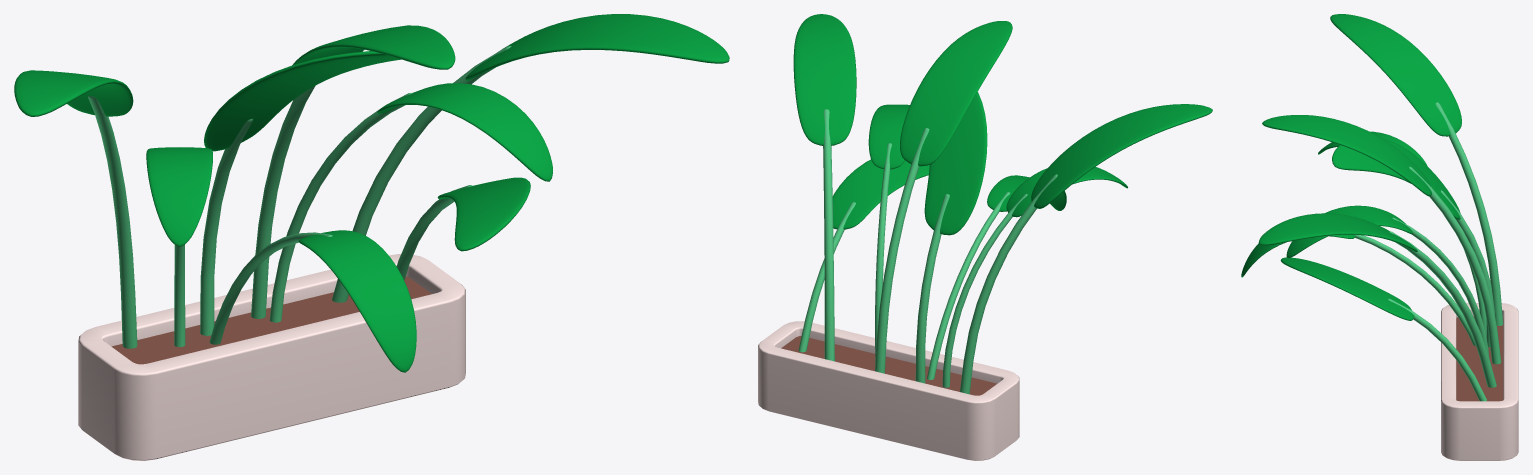
File: City_15_Plant_1.glb
3 views of the same model, side by side, from view 1: azimuth 30°, elevation 25°; view 2: azimuth 150°, elevation 25°; view 3: azimuth 270°, elevation 25° (orthographic). The views are drawn at different scales.
Parts seen in each view (by area): view 1: City_15_Plant_1; view 2: City_15_Plant_1; view 3: City_15_Plant_1.
Boxes of the visible parts, left/top/right/bottom form: City_15_Plant_1: left=14, top=14, right=729, bottom=460; City_15_Plant_1: left=758, top=14, right=1212, bottom=460; City_15_Plant_1: left=1241, top=14, right=1518, bottom=460.
Size of the model in its own units: 3.21 by 2.21 by 1.93.
Materials: 1 (1 with a texture image).
